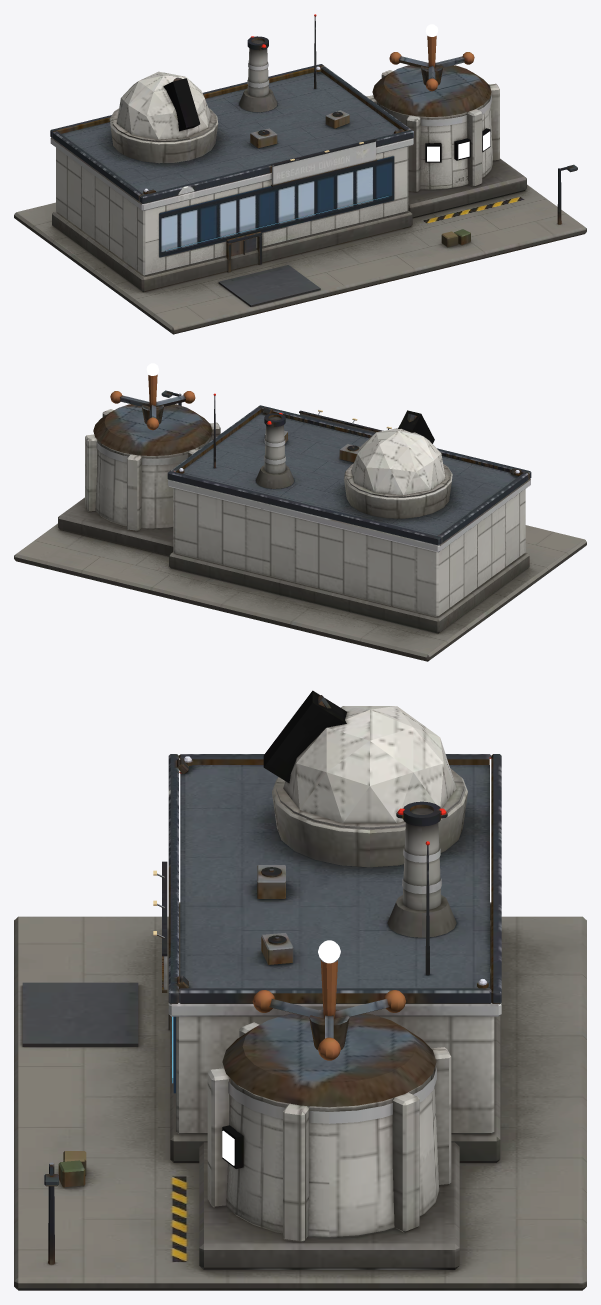
The model's file is rlab.allies.glb.
The picture shows the model from 3 angles, top to bottom: view 1: azimuth 30°, elevation 25°; view 2: azimuth 150°, elevation 25°; view 3: azimuth 270°, elevation 25°; orthographic projection. The views are drawn at different scales.
Parts seen in each view (by area): view 1: root_mesh, scope_mesh, rig_mesh; view 2: root_mesh, scope_mesh, rig_mesh; view 3: root_mesh, scope_mesh, rig_mesh.
Part boxes in pixels (x1,y1,x2,y2): root_mesh: (14, 14, 586, 334); scope_mesh: (116, 71, 210, 139); rig_mesh: (389, 24, 474, 91); root_mesh: (14, 390, 586, 661); scope_mesh: (351, 410, 445, 494); rig_mesh: (110, 363, 195, 430); root_mesh: (14, 754, 586, 1290); scope_mesh: (263, 690, 456, 823); rig_mesh: (252, 940, 405, 1060).
Bounding box in the file's own units: 2.98 × 1.19 × 1.98.
Materials: 2 (1 with a texture image).
